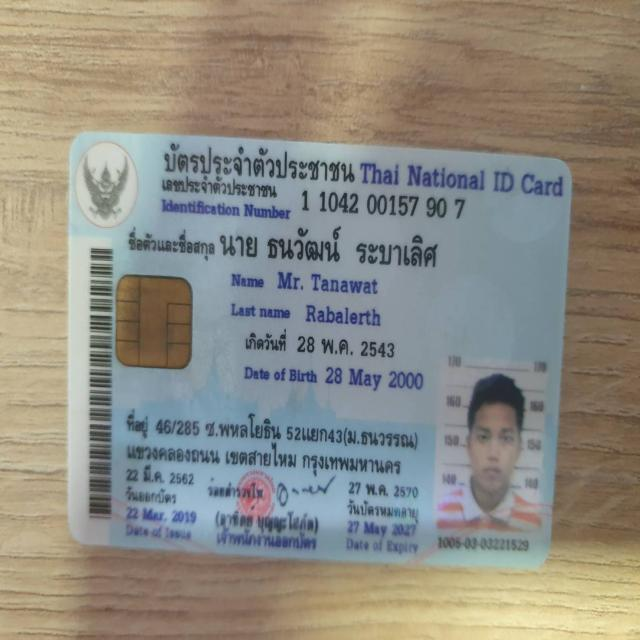Address_th: (118, 402, 423, 482)
Date_of_Birth: (321, 360, 431, 403)
Date_of_Expiry: (341, 516, 422, 540)
Date_of_Issue: (117, 504, 203, 528)
First_Name: (272, 266, 383, 300)
ID_Number: (297, 190, 470, 223)
Image: (433, 354, 547, 536)
Last_Name: (303, 302, 387, 330)
Thai_Name: (218, 215, 444, 271)
